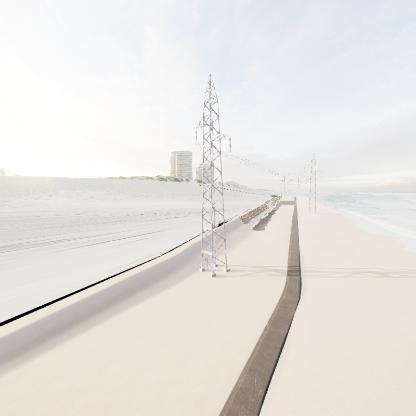tower: (179, 70, 244, 282)
